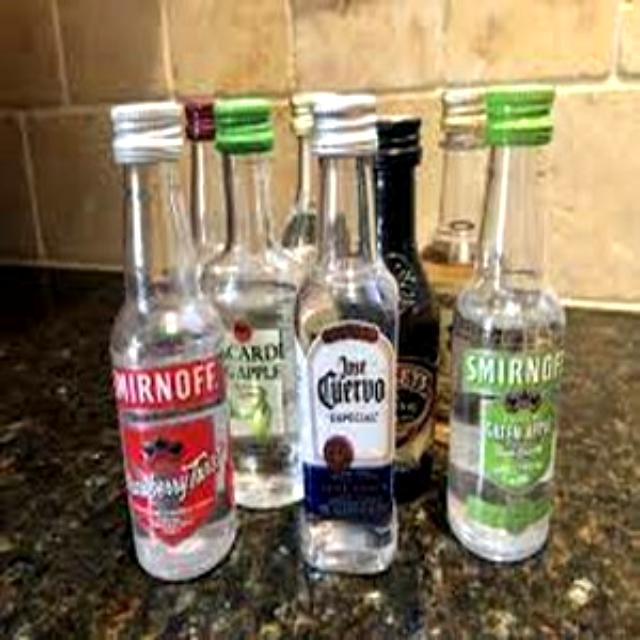Glass: (112, 104, 238, 578), (449, 80, 556, 560), (292, 92, 396, 576)
